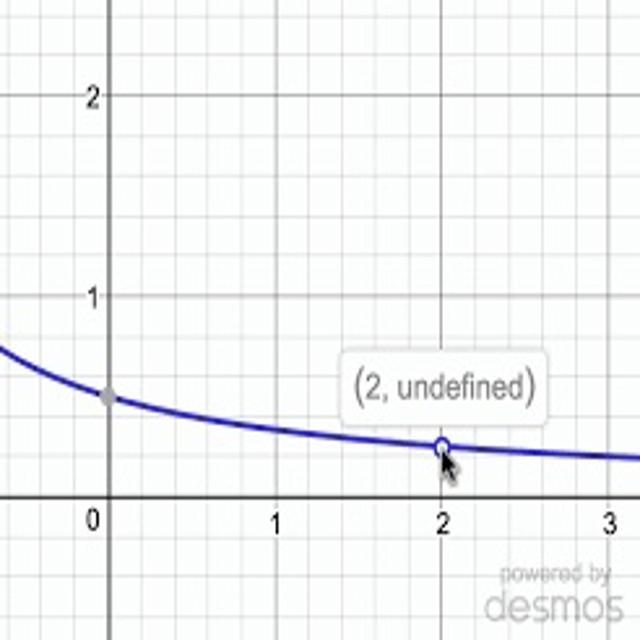axis: (104, 0, 115, 640), (0, 493, 640, 504)
